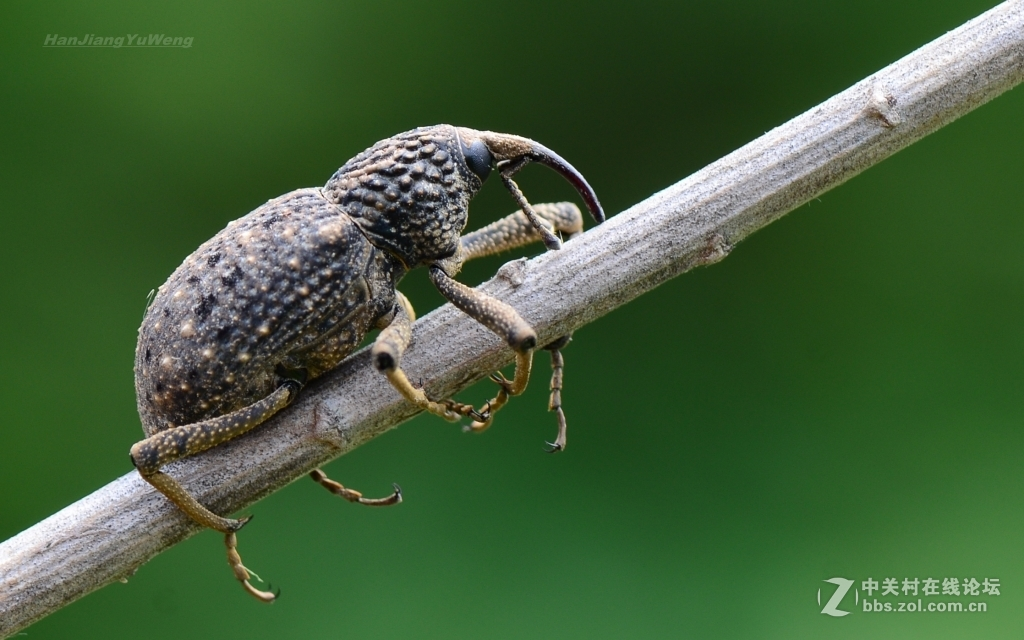Curculionidae: (128, 122, 607, 602)
